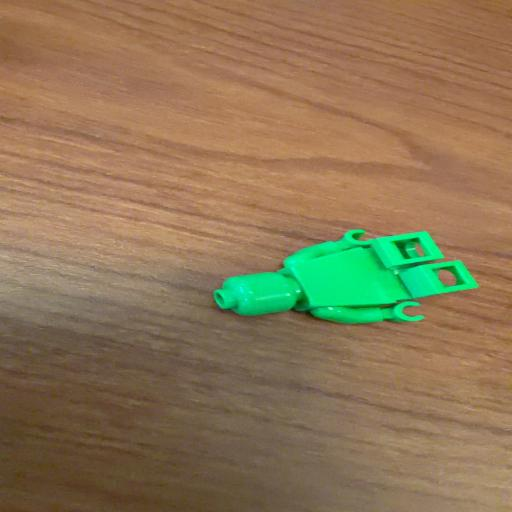UnoQ-minifig-detector: (214, 230, 478, 324)
